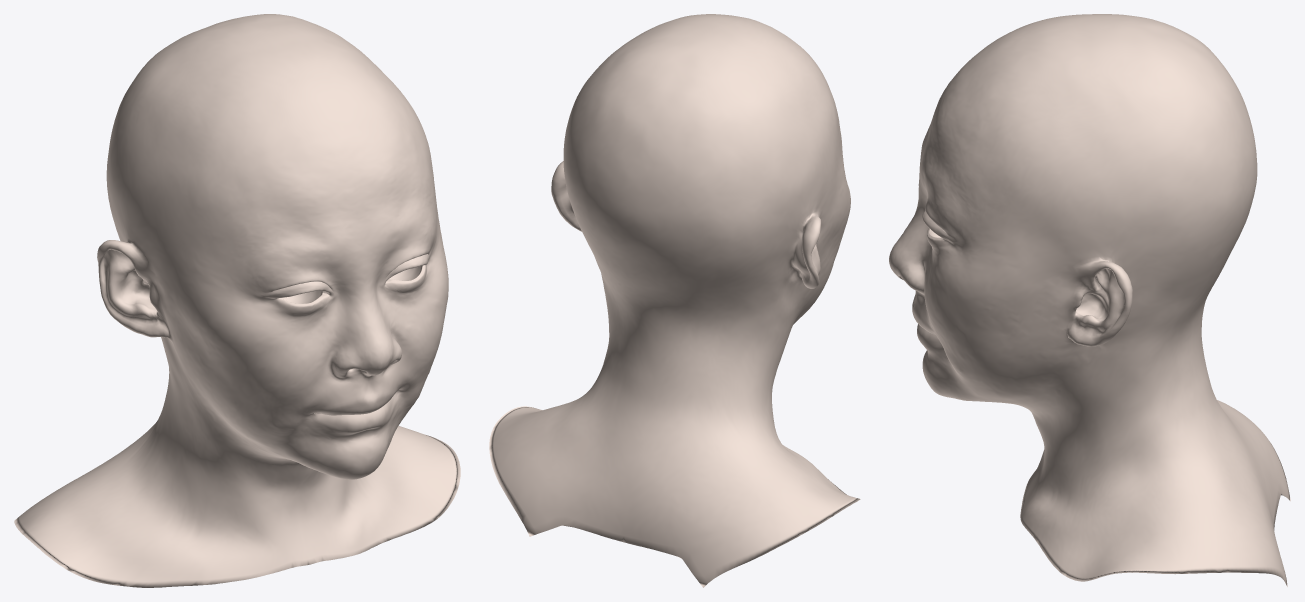
Rendered from claire.glb.
The picture shows the model from 3 angles, left to right: view 1: azimuth 30°, elevation 25°; view 2: azimuth 150°, elevation 25°; view 3: azimuth 270°, elevation 25°; orthographic projection. The views are drawn at different scales.
Visible parts, largest first — view 1: claire; view 2: claire; view 3: claire.
Boxes of the visible parts, left/top/right/bottom form: claire: left=14, top=14, right=460, bottom=587; claire: left=489, top=14, right=860, bottom=587; claire: left=889, top=14, right=1290, bottom=586.
Size of the model in its own units: 24.58 by 31.81 by 22.24.
